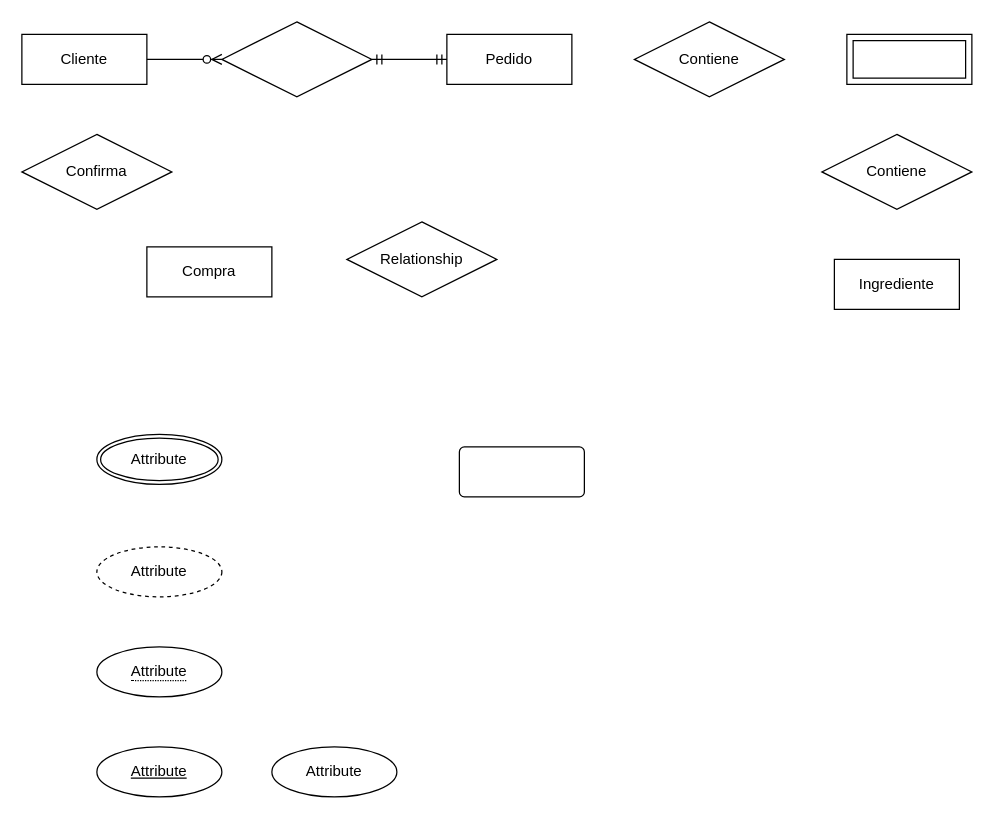
Image size: 994x819. Some labels were removed from this diagram. Here are the shapes that lost their labels. From the top down, the box of each, then its label:
(221, 21, 372, 97): Realiza
(846, 33, 972, 84): Taco
(458, 446, 584, 497): Entrega
